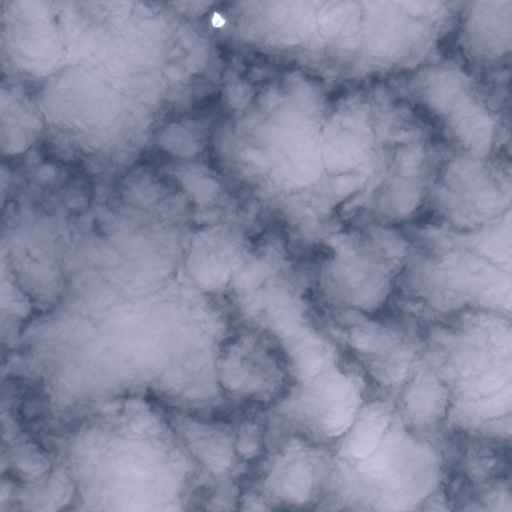Iceberg: (211, 12, 225, 26)
